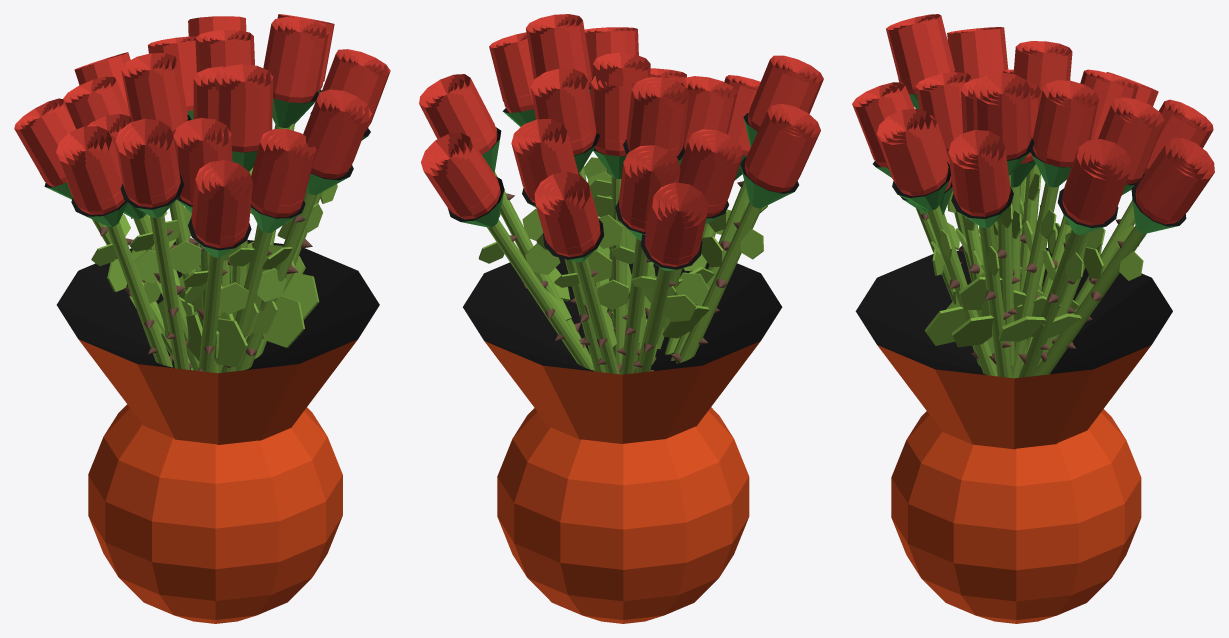
The picture shows the model from 3 angles, left to right: view 1: azimuth 30°, elevation 25°; view 2: azimuth 150°, elevation 25°; view 3: azimuth 270°, elevation 25°; orthographic projection.
Visible parts, largest first — view 1: node_MeshObject-1855276032-PolyPaper9, node_MeshObject1183204352-PolyPaper8, node_MeshObject-1283196928-PolyPaper20; view 2: node_MeshObject-1855276032-PolyPaper9, node_MeshObject1183204352-PolyPaper8, node_MeshObject-1283196928-PolyPaper20; view 3: node_MeshObject-1855276032-PolyPaper9, node_MeshObject1183204352-PolyPaper8, node_MeshObject-1283196928-PolyPaper20.
Part boxes in pixels (left/top/right/bottom): node_MeshObject-1855276032-PolyPaper9: left=56, top=14, right=379, bottom=623; node_MeshObject1183204352-PolyPaper8: left=63, top=17, right=390, bottom=372; node_MeshObject-1283196928-PolyPaper20: left=14, top=16, right=321, bottom=370; node_MeshObject-1855276032-PolyPaper9: left=419, top=27, right=823, bottom=623; node_MeshObject1183204352-PolyPaper8: left=474, top=14, right=743, bottom=374; node_MeshObject-1283196928-PolyPaper20: left=421, top=127, right=708, bottom=374; node_MeshObject-1855276032-PolyPaper9: left=852, top=14, right=1172, bottom=623; node_MeshObject1183204352-PolyPaper8: left=948, top=41, right=1164, bottom=378; node_MeshObject-1283196928-PolyPaper20: left=987, top=72, right=1214, bottom=375.
Bounding box in the file's own units: 0.6828 × 1.12 × 0.6532.
